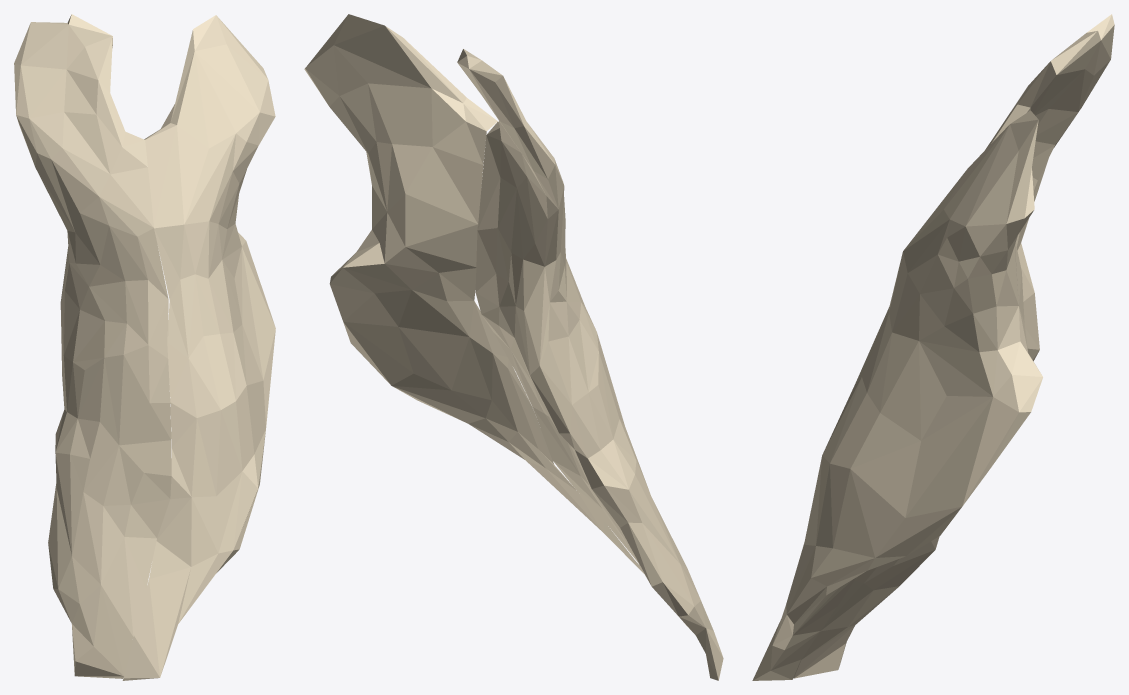
The model's file is VH_M_Thymus_0.2.glb.
3 renders of one model, left to right at view 1: azimuth 30°, elevation 25°; view 2: azimuth 150°, elevation 25°; view 3: azimuth 270°, elevation 25°, orthographic. The views are drawn at different scales.
Parts seen in each view (by area): view 1: VH_M_thymus_lobe_L, VH_M_thymus_lobe_R; view 2: VH_M_thymus_lobe_R, VH_M_thymus_lobe_L; view 3: VH_M_thymus_lobe_R, VH_M_thymus_lobe_L.
Boxes of the visible parts, x1=… form: VH_M_thymus_lobe_L: x1=14, y1=14, x2=171, y2=678; VH_M_thymus_lobe_R: x1=122, y1=15, x2=275, y2=680; VH_M_thymus_lobe_R: x1=304, y1=14, x2=643, y2=573; VH_M_thymus_lobe_L: x1=457, y1=49, x2=723, y2=680; VH_M_thymus_lobe_R: x1=752, y1=110, x2=1042, y2=680; VH_M_thymus_lobe_L: x1=793, y1=14, x2=1114, y2=678.
Size of the model in its own units: 0.0374 by 0.0757 by 0.0357.
